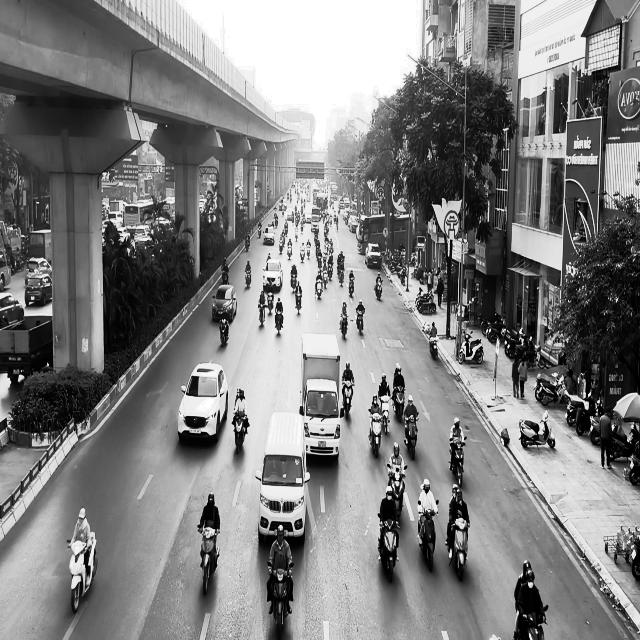car: (178, 361, 228, 444), (303, 378, 341, 458), (212, 284, 237, 322), (263, 258, 283, 290)
motorbike: (67, 532, 98, 614), (267, 560, 294, 629), (418, 498, 440, 572), (377, 514, 400, 582), (198, 526, 220, 595), (518, 409, 556, 448), (447, 517, 470, 581), (514, 604, 549, 640), (388, 465, 407, 517), (449, 437, 466, 488), (232, 410, 250, 453), (404, 412, 420, 460), (368, 409, 382, 457), (342, 379, 355, 419), (392, 386, 406, 422), (380, 395, 390, 434), (219, 318, 230, 346), (430, 334, 440, 360), (356, 307, 365, 335), (275, 308, 284, 335), (339, 314, 348, 339), (258, 301, 266, 327), (295, 290, 302, 313), (375, 280, 383, 300), (245, 268, 252, 288), (348, 277, 355, 297)
